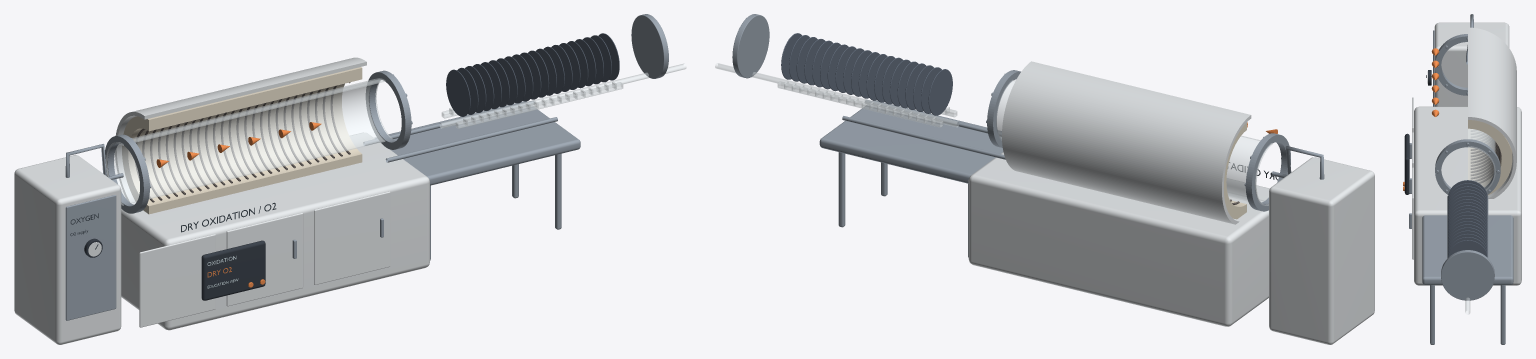
Rendered from dry_02_load.glb.
3 renders of one model, left to right at view 1: azimuth 30°, elevation 25°; view 2: azimuth 150°, elevation 25°; view 3: azimuth 270°, elevation 25°, orthographic. The views are drawn at different scales.
Visible parts, largest first — view 1: Furnace base cabinet, Cutaway insulation, Quartz process tube - educational cutaway, Gas source module, Load station, Service door.002, Source front, Service door, Service door.001, Cutaway metal shell, Control panel, Tube end cap (+8 smaller); view 2: Furnace base cabinet, Cutaway metal shell, Gas source module, Load station, Quartz process tube - educational cutaway, Tube end cap, End flange, Quartz boat rail.001, Cantilever paddle, End flange.001, Silicon wafer 00, Loader rail.001 (+3 smaller); view 3: Furnace base cabinet, Cutaway metal shell, Load station, Gas source module, Tube end cap, Cutaway insulation, Quartz process tube - educational cutaway, End flange.001, End flange, Silicon wafer 19, Load table leg.003, Control panel (+22 smaller).
Boxes of the visible parts, box(x1,y1,x2,y2) form: Furnace base cabinet: box(121, 132, 429, 330); Cutaway insulation: box(122, 67, 362, 214); Quartz process tube - educational cutaway: box(106, 78, 392, 205); Gas source module: box(14, 155, 121, 344); Load station: box(375, 101, 580, 185); Service door.002: box(314, 191, 390, 284); Source front: box(65, 195, 116, 320); Service door: box(139, 234, 215, 327); Service door.001: box(226, 213, 303, 306); Cutaway metal shell: box(115, 57, 366, 204); Control panel: box(201, 240, 265, 300); Tube end cap: box(631, 14, 668, 78); Furnace base cabinet: box(968, 152, 1269, 326); Cutaway metal shell: box(1002, 61, 1251, 224); Gas source module: box(1269, 157, 1374, 344); Load station: box(819, 100, 1003, 183); Quartz process tube - educational cutaway: box(996, 80, 1272, 205); Tube end cap: box(732, 14, 769, 78); End flange: box(1245, 133, 1290, 211); Quartz boat rail.001: box(777, 81, 943, 127); Cantilever paddle: box(715, 63, 958, 127); End flange.001: box(987, 70, 1020, 147); Silicon wafer 00: box(928, 69, 952, 115); Loader rail.001: box(842, 116, 1005, 159); Furnace base cabinet: box(1414, 106, 1521, 285); Cutaway metal shell: box(1468, 27, 1516, 198); Load station: box(1422, 215, 1513, 284); Gas source module: box(1434, 22, 1509, 106); Tube end cap: box(1441, 250, 1494, 300); Cutaway insulation: box(1468, 120, 1512, 195); Quartz process tube - educational cutaway: box(1468, 128, 1495, 190); End flange.001: box(1435, 139, 1500, 194); End flange: box(1435, 34, 1467, 95); Silicon wafer 19: box(1448, 240, 1487, 257); Load table leg.003: box(1500, 285, 1505, 344); Control panel: box(1404, 133, 1409, 194).
Size of the model in its own units: 14.85 by 4.23 by 2.86.
